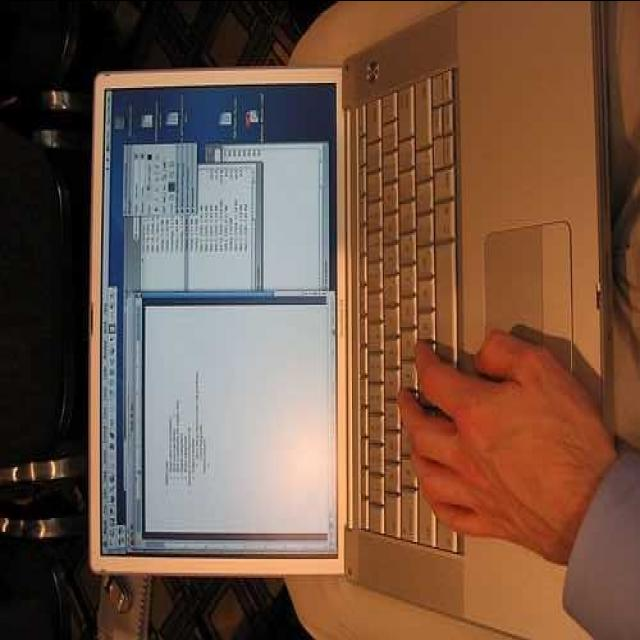laptop: (94, 29, 635, 627)
